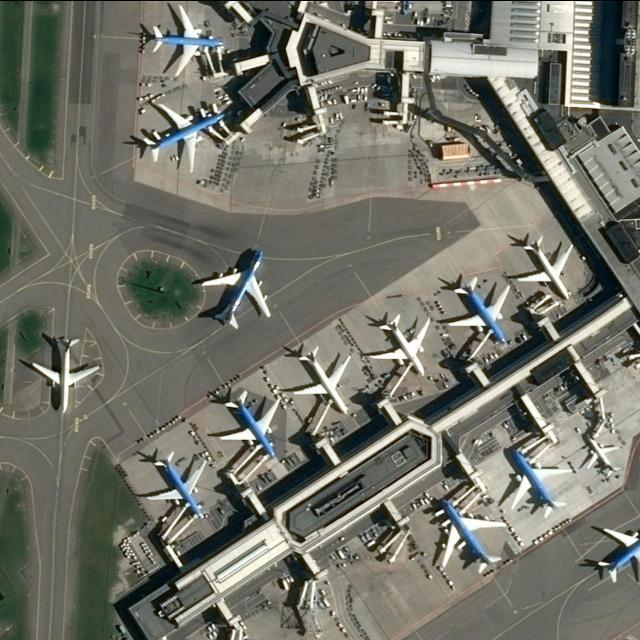Aircraft: (139, 96, 226, 174), (191, 247, 273, 327), (435, 493, 508, 575), (27, 332, 100, 412), (149, 3, 224, 76), (215, 385, 283, 459), (444, 270, 510, 346), (141, 447, 209, 518), (505, 444, 569, 518), (289, 342, 353, 414), (366, 310, 430, 378), (512, 231, 574, 299), (594, 515, 640, 585), (581, 433, 621, 475)
